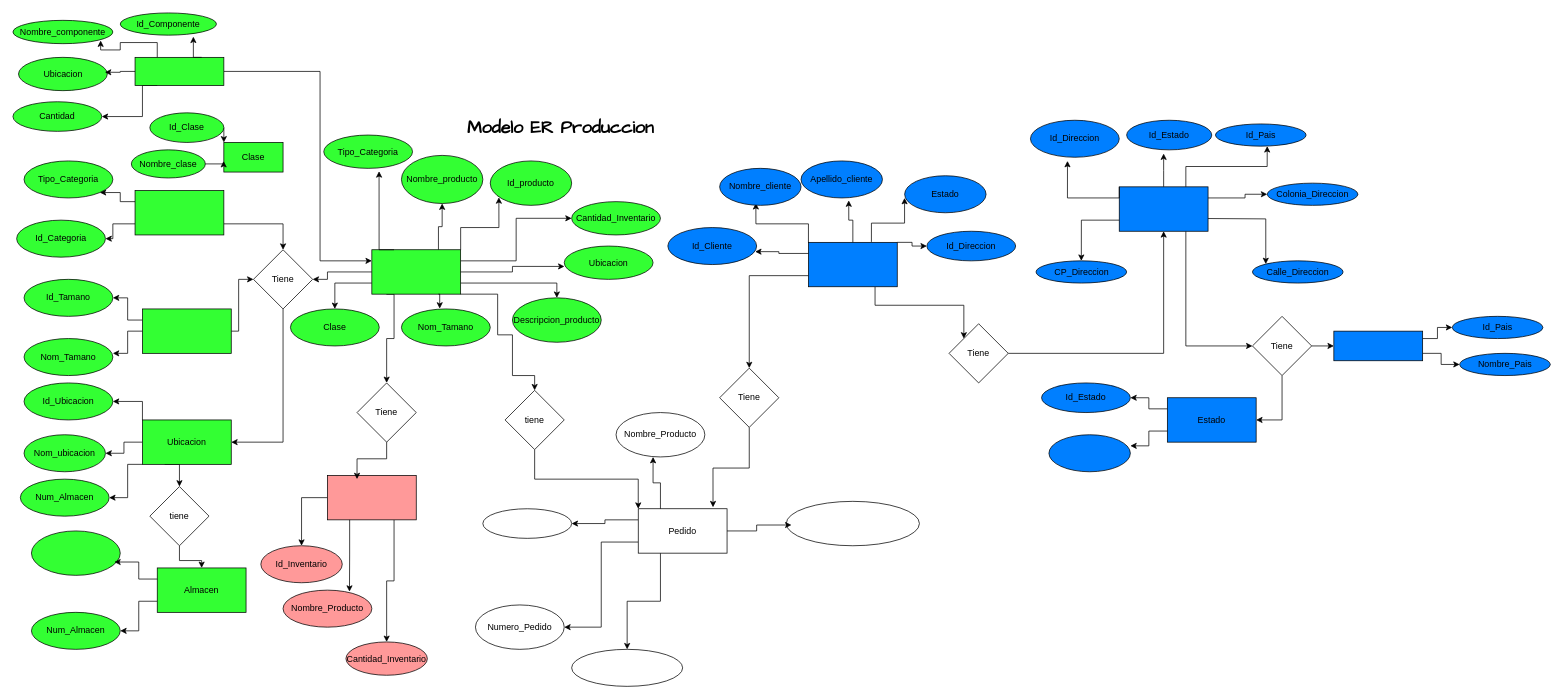
Image size: 1564x699. Some labels were removed from this diagram. The box of each missing label's shape, as (x1, y1, x2, y2) in pixels:
Cantidad_Piezas_Venta: (571, 649, 683, 686)
Categoria: (134, 190, 224, 235)
Cliente: (808, 242, 897, 287)
Componente: (134, 57, 224, 85)
Direccion: (1119, 186, 1208, 231)
Direccion_envio_Venta: (786, 501, 919, 546)
Id_Almacen: (31, 530, 120, 575)
Id_Pedido: (482, 508, 572, 538)
Inventario: (327, 475, 416, 520)
Nom_Estado: (1048, 434, 1130, 472)
Pais: (1333, 330, 1423, 361)
Producto: (371, 249, 461, 294)
Tamano: (142, 308, 231, 353)
